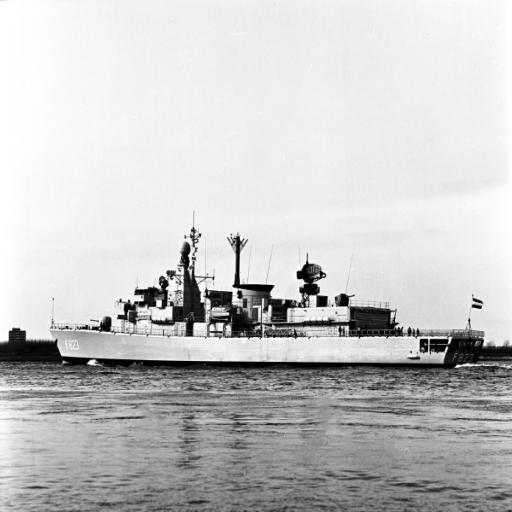Fragata: (46, 216, 487, 375)
